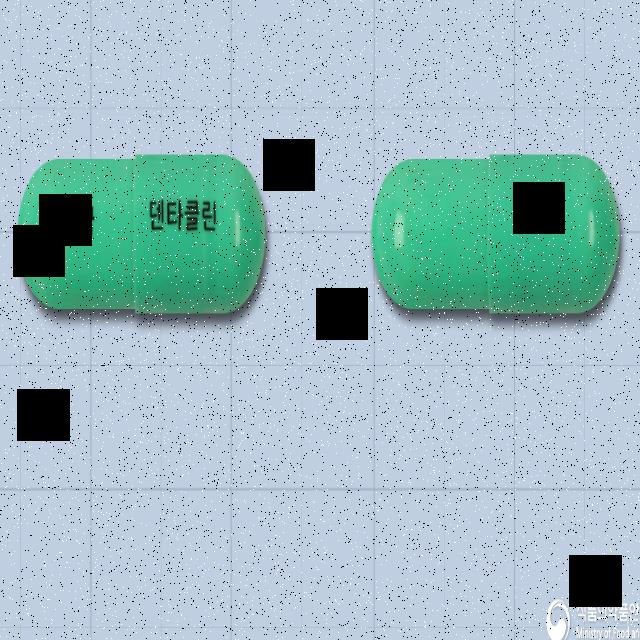Dentacline Cap: (16, 150, 267, 315)
